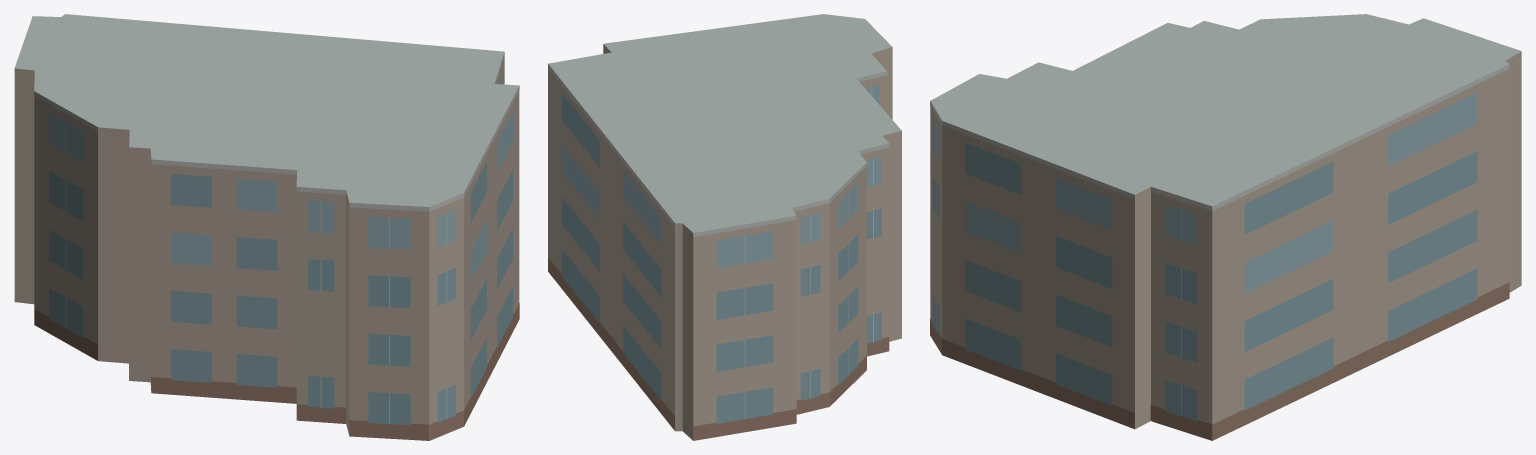
Rendered from survey-upis-32992398.glb.
The picture shows the model from 3 angles, left to right: view 1: azimuth 30°, elevation 25°; view 2: azimuth 150°, elevation 25°; view 3: azimuth 270°, elevation 25°; orthographic projection. The views are drawn at different scales.
Visible parts, largest first — view 1: survey-upis-32992398.tmp; view 2: survey-upis-32992398.tmp; view 3: survey-upis-32992398.tmp.
Part boxes in pixels (bbox=[...]): survey-upis-32992398.tmp: bbox=[14, 14, 519, 440]; survey-upis-32992398.tmp: bbox=[548, 14, 901, 440]; survey-upis-32992398.tmp: bbox=[930, 14, 1521, 440].
Bounding box in the file's own units: 21.49 × 12.2 × 27.91.
